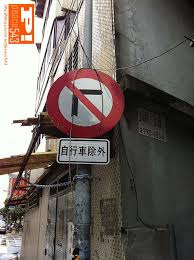No_right_turn: (47, 68, 124, 137)
